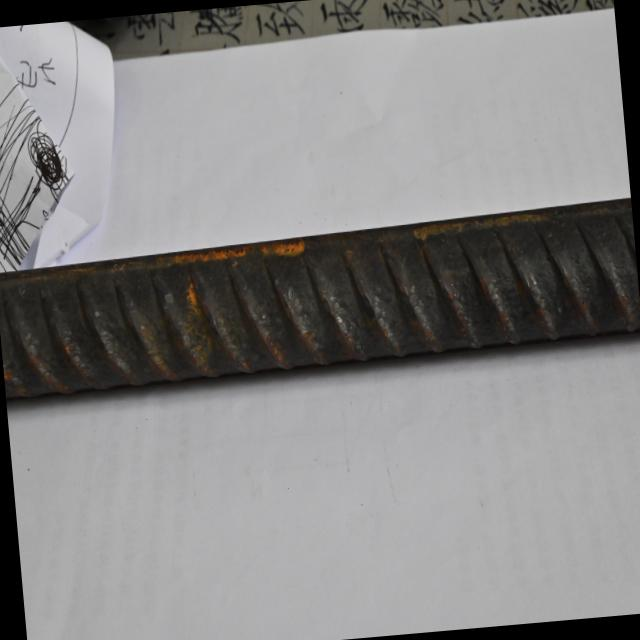ribbed bar: (0, 192, 640, 407)
